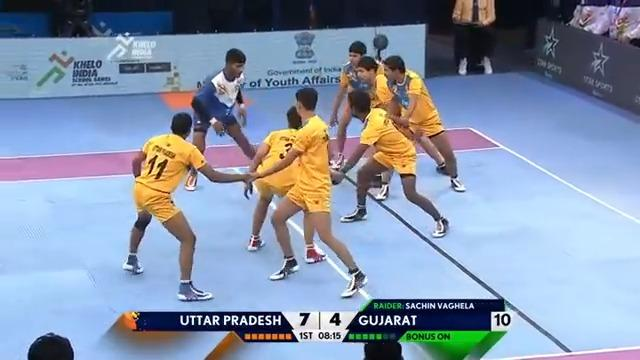Player: (122, 111, 255, 301), (250, 86, 368, 297), (335, 88, 450, 237), (244, 105, 327, 263), (377, 54, 466, 194), (328, 40, 368, 170)
Raider: (183, 47, 256, 190)
referee: (450, 0, 497, 75), (54, 0, 93, 37), (27, 332, 74, 359)
